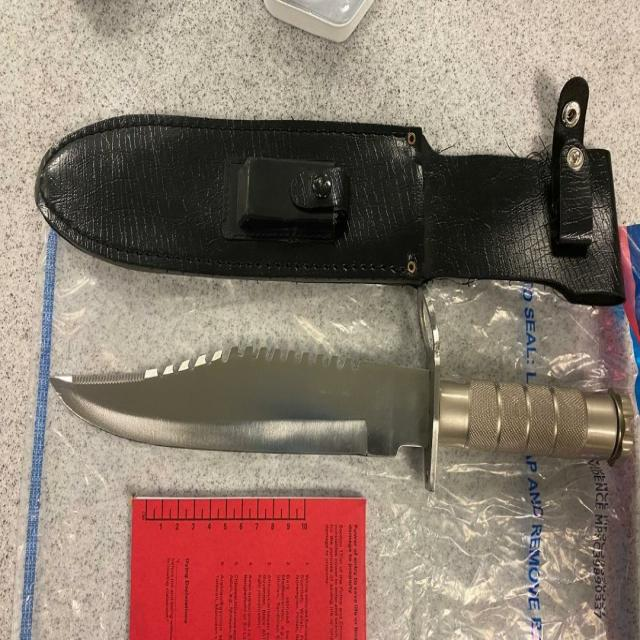Sharp-Object: (49, 341, 636, 495)
